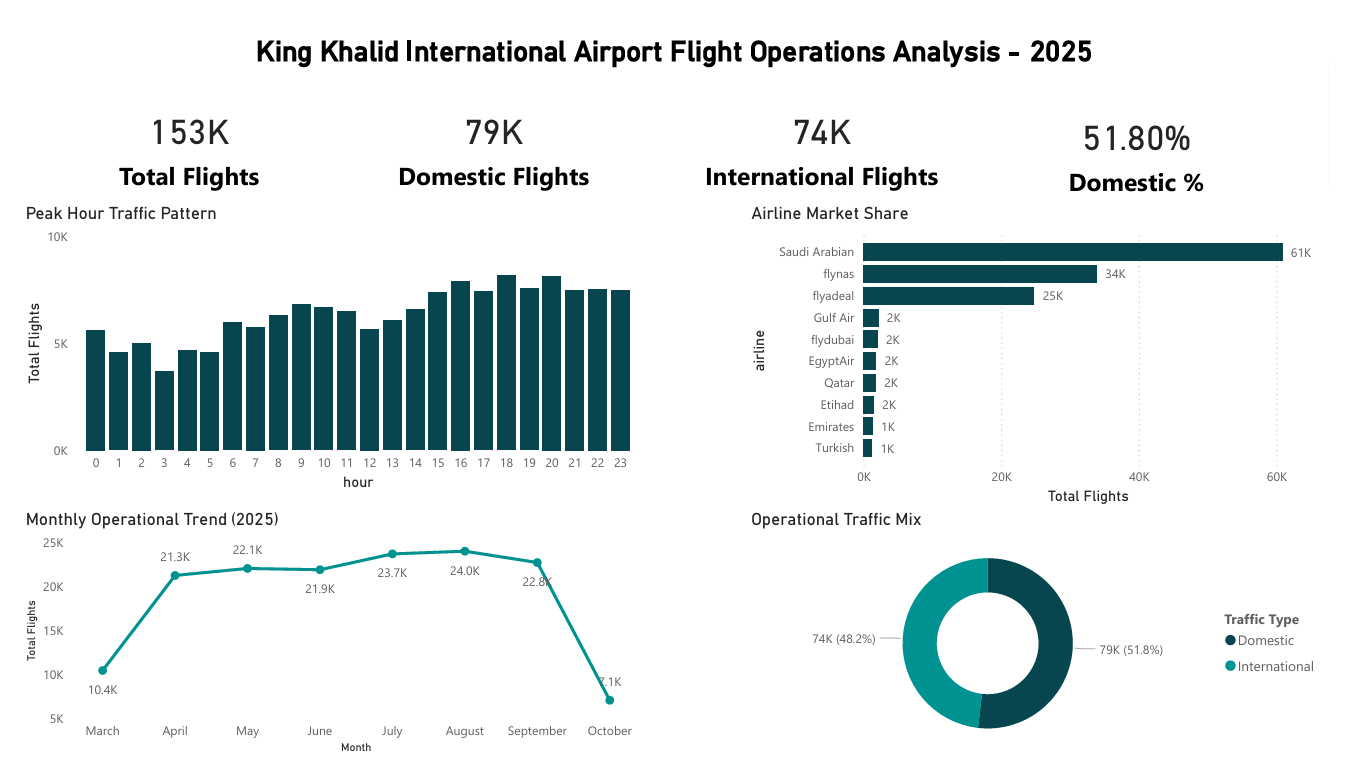

The dashboard page shown, as its layout file describes it:
{"tool":"powerbi","page":{"name":"Page 1","canvas":[1280,720],"ordinal":0},"visuals":[{"type":"card","fields":{"Values":["RUH_final_dataset.Total Flights"]},"box":[24,70,282,100],"z":0},{"type":"card","fields":{"Values":["RUH_final_dataset.Domestic Flights"]},"box":[316,70,294,100],"z":1000},{"type":"card","fields":{"Values":["RUH_final_dataset.International Flights"]},"box":[628.3,70,311.7,100],"z":2000},{"type":"clusteredColumnChart","title":"Peak Hour Traffic Pattern","fields":{"Category":["RUH_final_dataset.hour"],"Y":["RUH_final_dataset.Total Flights"]},"box":[0,176,610,286],"z":3000},{"type":"lineChart","title":"Monthly Operational Trend (2025)","fields":{"Category":["RUH_final_dataset.month.Variation.Date Hierarchy.Month"],"Y":["RUH_final_dataset.Total Flights"]},"box":[0,476,610,244],"z":4000},{"type":"clusteredBarChart","title":"Airline Market Share","fields":{"Y":["RUH_final_dataset.Total Flights"],"Category":["RUH_final_dataset.airline"]},"box":[710,176,570,300],"z":5000},{"type":"donutChart","title":"Operational Traffic Mix","fields":{"Y":["RUH_final_dataset.Total Flights"],"Category":["RUH_final_dataset.Traffic Type"]},"box":[710,476,570,244],"z":6000},{"type":"card","fields":{"Values":["RUH_final_dataset.Domestic %"]},"box":[940,76,304,100],"z":7000},{"type":"textbox","title":"King Khalid International Airport  Flight Operations Analysis - 2025","box":[0,11.8,1280,64.5],"z":8000}]}

Visuals, with their boxes in screenshot pixels (x1, y1, x2, y2), scaled from the page's 1280x720 canvas onto the 1351x782 screenshot:
card - RUH_final_dataset.Total Flights: bbox(25, 76, 323, 185)
card - RUH_final_dataset.Domestic Flights: bbox(334, 76, 644, 185)
card - RUH_final_dataset.International Flights: bbox(663, 76, 992, 185)
"Peak Hour Traffic Pattern" clusteredColumnChart: bbox(0, 191, 644, 502)
"Monthly Operational Trend (2025)" lineChart: bbox(0, 517, 644, 781)
"Airline Market Share" clusteredBarChart: bbox(749, 191, 1350, 517)
"Operational Traffic Mix" donutChart: bbox(749, 517, 1350, 781)
card - RUH_final_dataset.Domestic %: bbox(992, 83, 1313, 191)
"King Khalid International Airport  Flight Operations Analysis - 2025" textbox: bbox(0, 13, 1350, 83)
